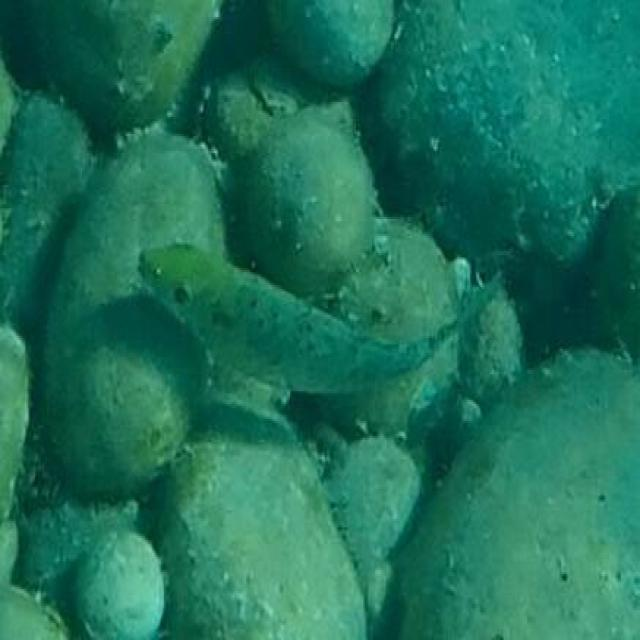Sokar Baligi: (131, 217, 516, 416)
